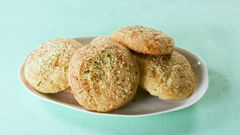hamburger_buns: (15, 21, 199, 115)
